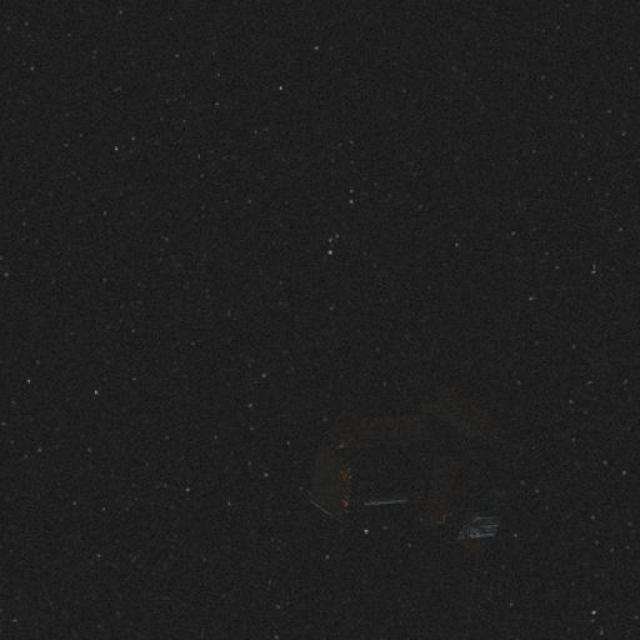soho: (309, 387, 538, 534)
